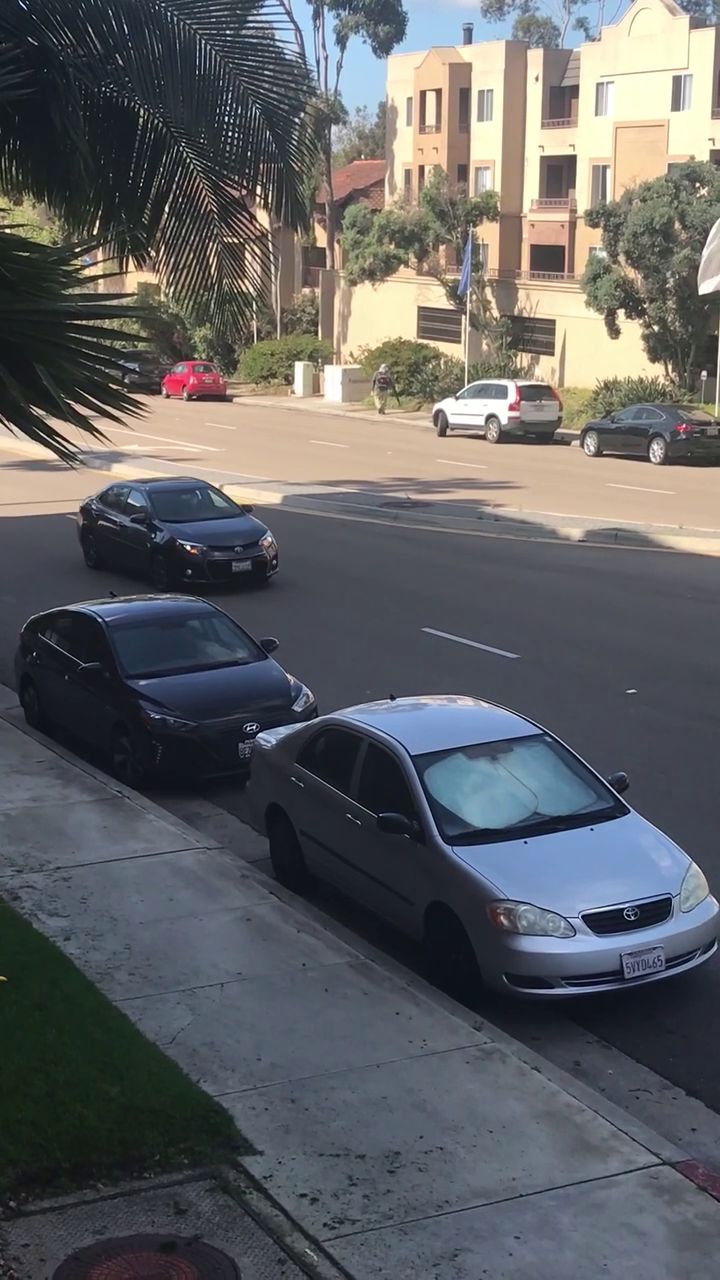car: (235, 688, 709, 1020), (23, 608, 330, 786), (79, 461, 277, 592)
